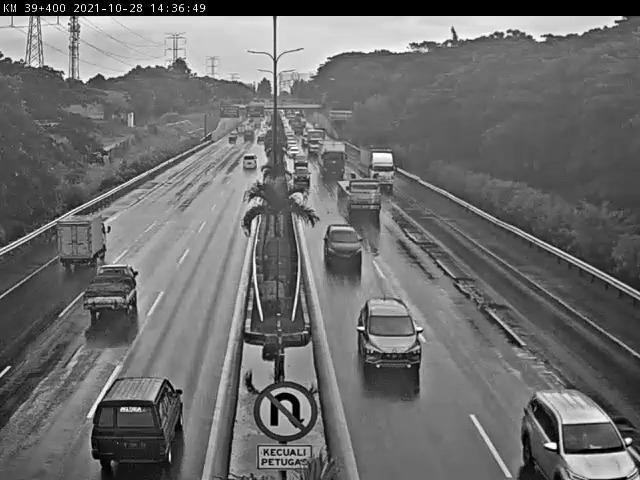big truck: (355, 146, 394, 182), (337, 172, 372, 203)
car: (536, 394, 613, 480), (359, 281, 414, 368), (90, 382, 173, 437), (326, 217, 366, 278), (238, 158, 255, 177), (297, 165, 312, 182)
small truck: (88, 260, 156, 327), (51, 213, 116, 273)
